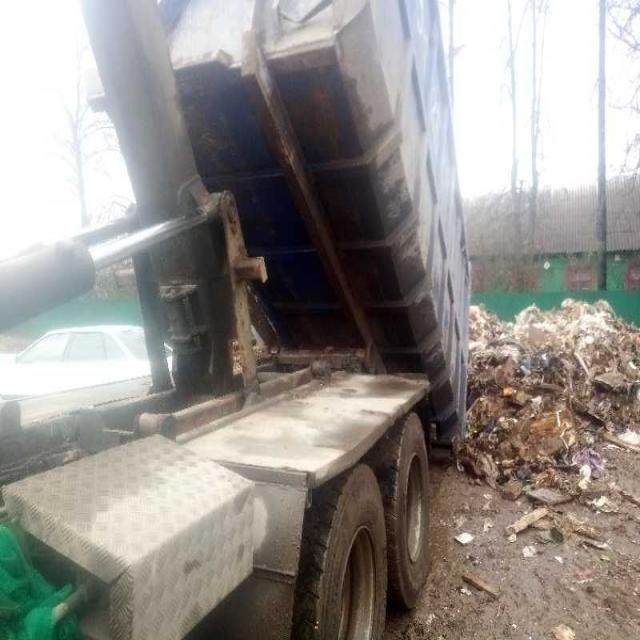Dumpster: (151, 0, 476, 458)
